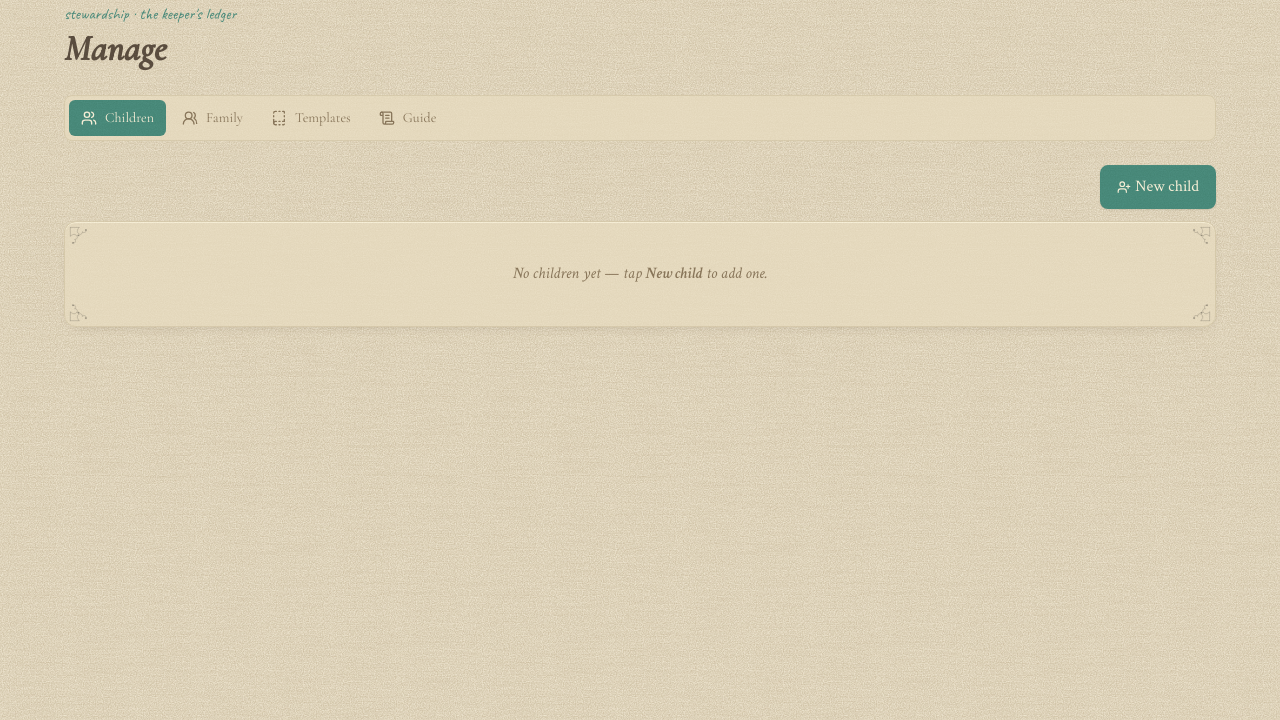
Test: Manage — create child flow › surfaces a 400 error inline without closing the modal
This screenshot has width=1280, height=720.
Click the button "New child" at (1158, 187), box [1100,165,1216,209]
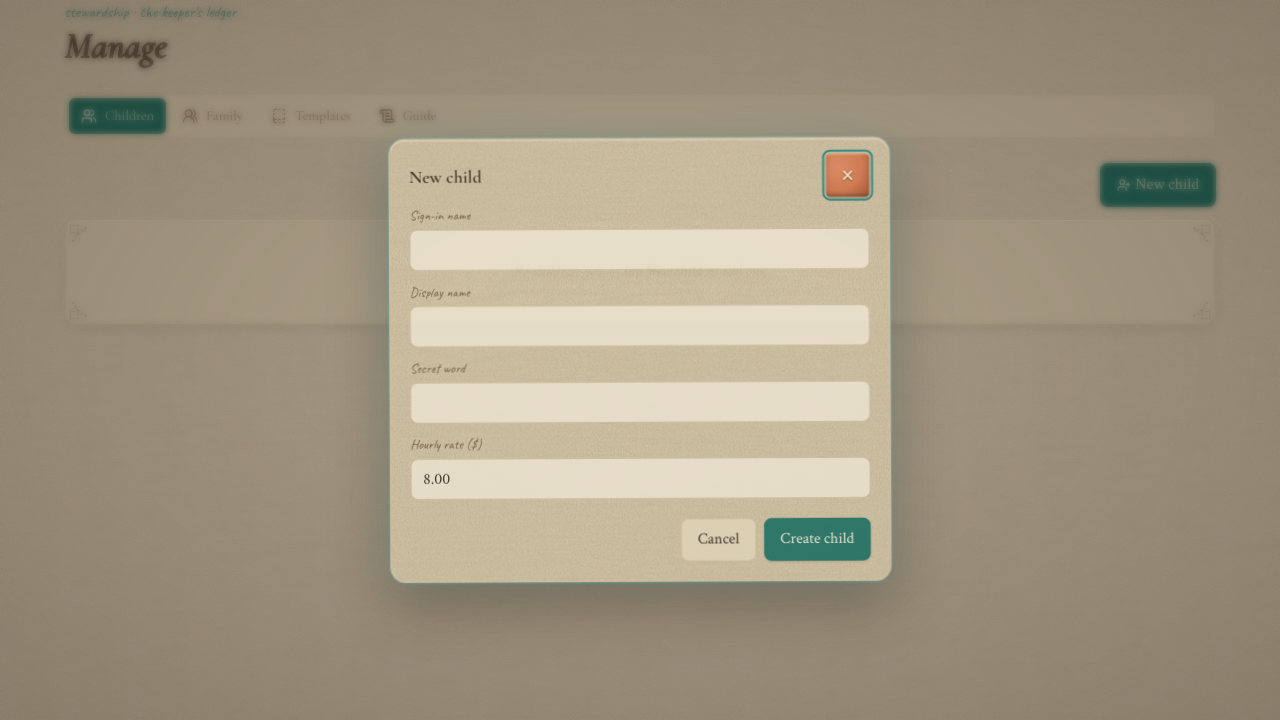
Type "taken" into the field labelled "Sign-in name" at (640, 249), box [409,228,870,271]
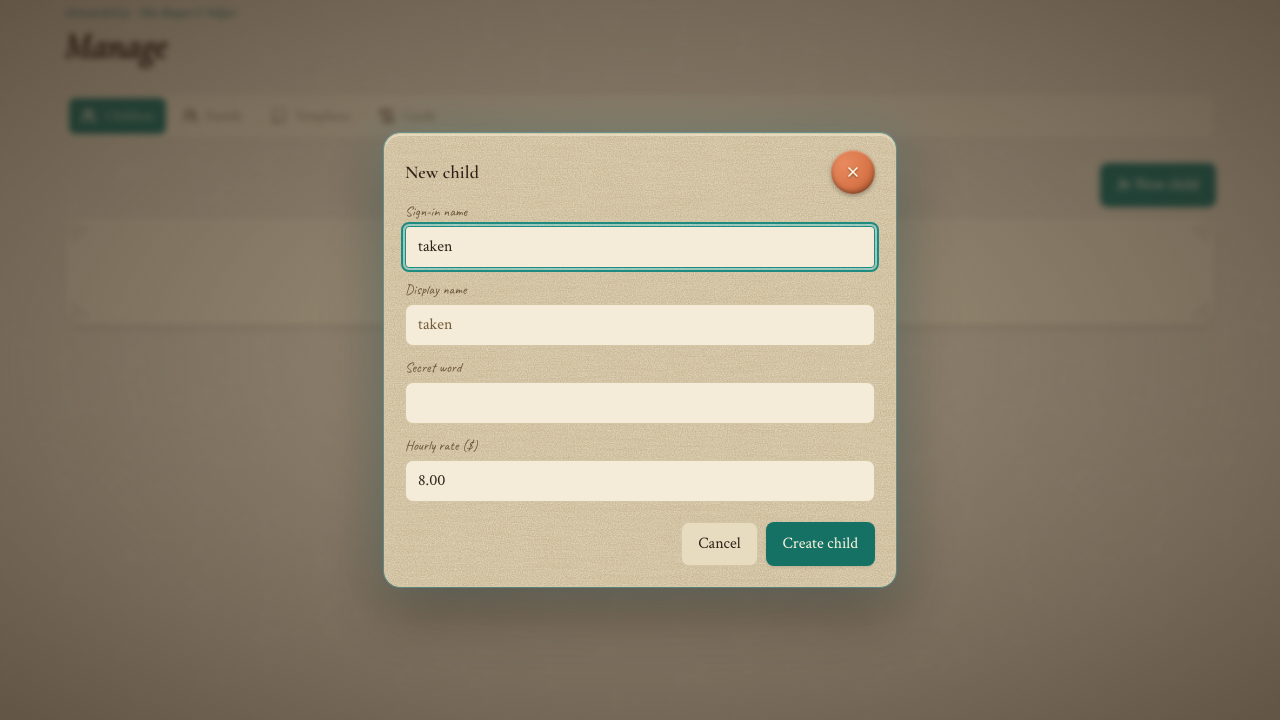
Type "pw" into the password field labelled "Secret word" at (640, 403), box [405,382,875,424]
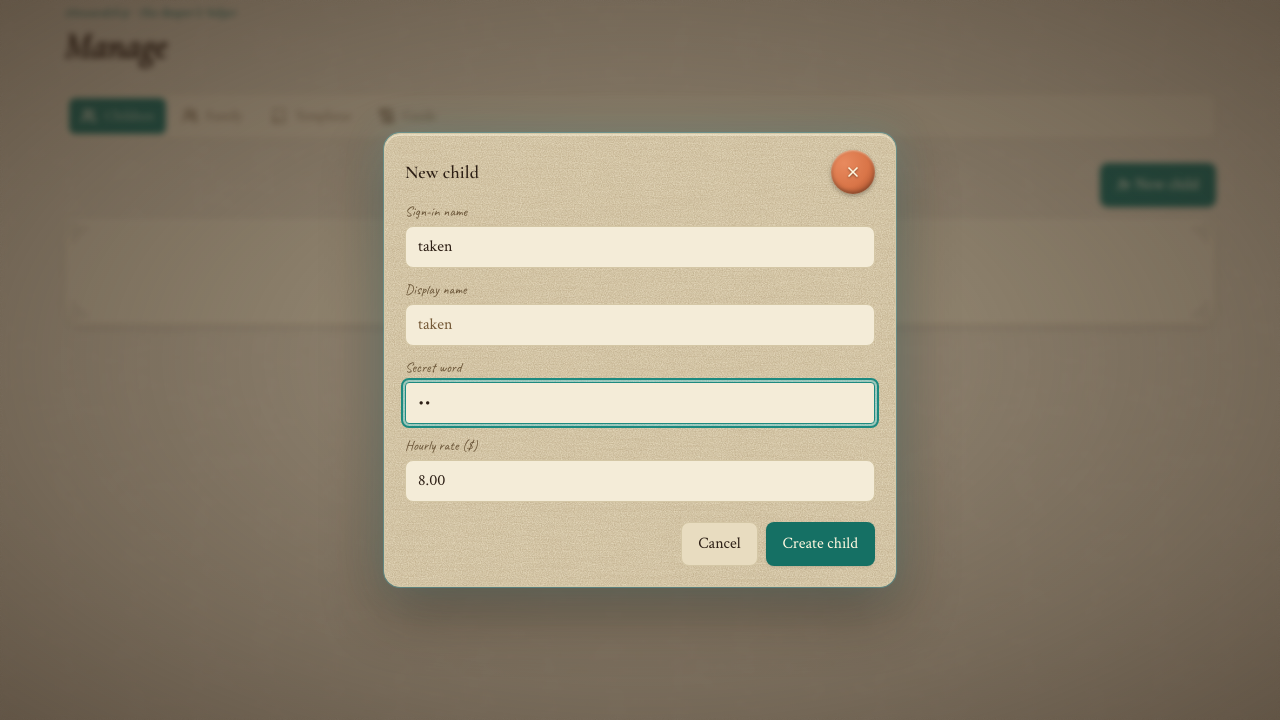
Click the button "Create child" at (820, 544), box [766,522,875,566]
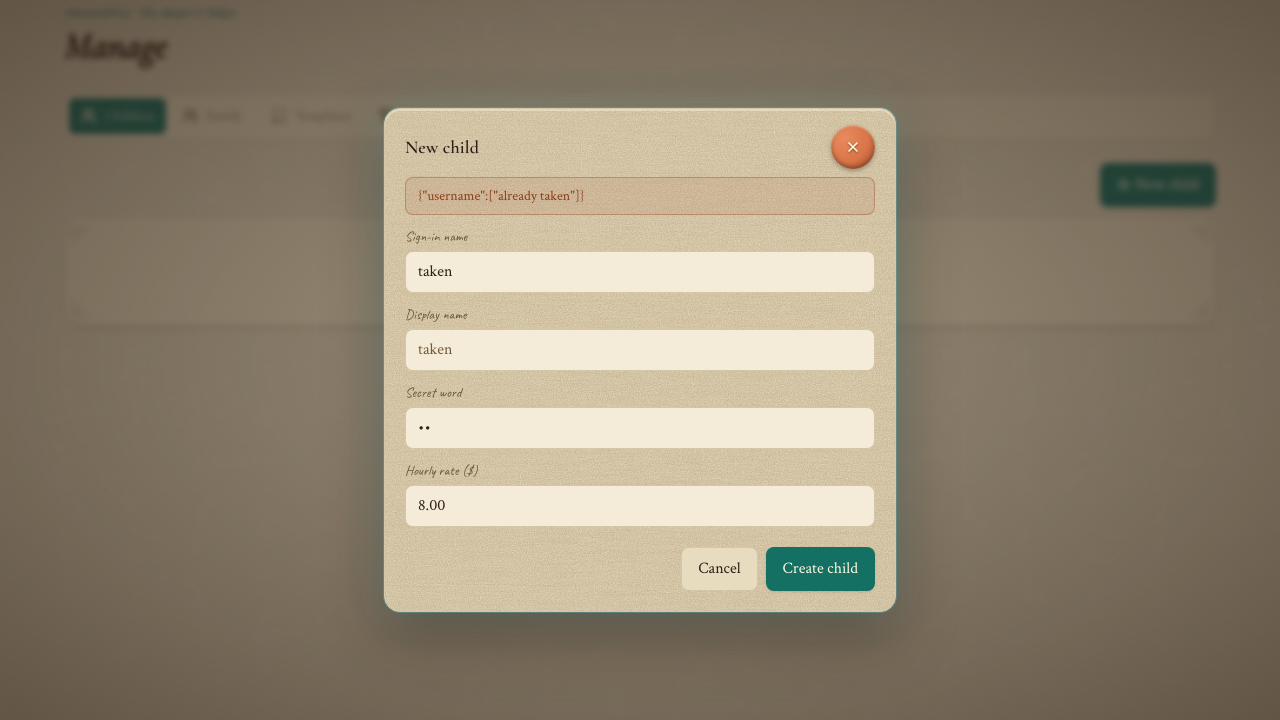
Result: the dialog "New child" is shown at [384,108,896,612]
Result: the text "{\"username\":[\"already taken\"]}" is shown at [418,187,584,205]
